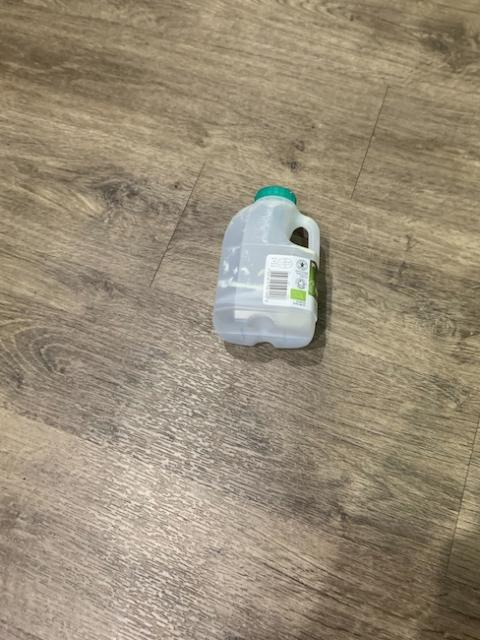plastic: (215, 185, 320, 347)
